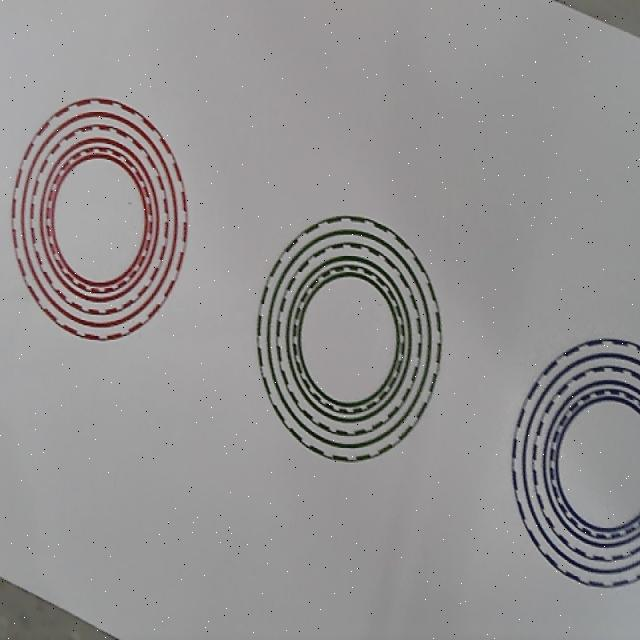g: (256, 214, 442, 463)
red-green-blue: (11, 96, 188, 342)
